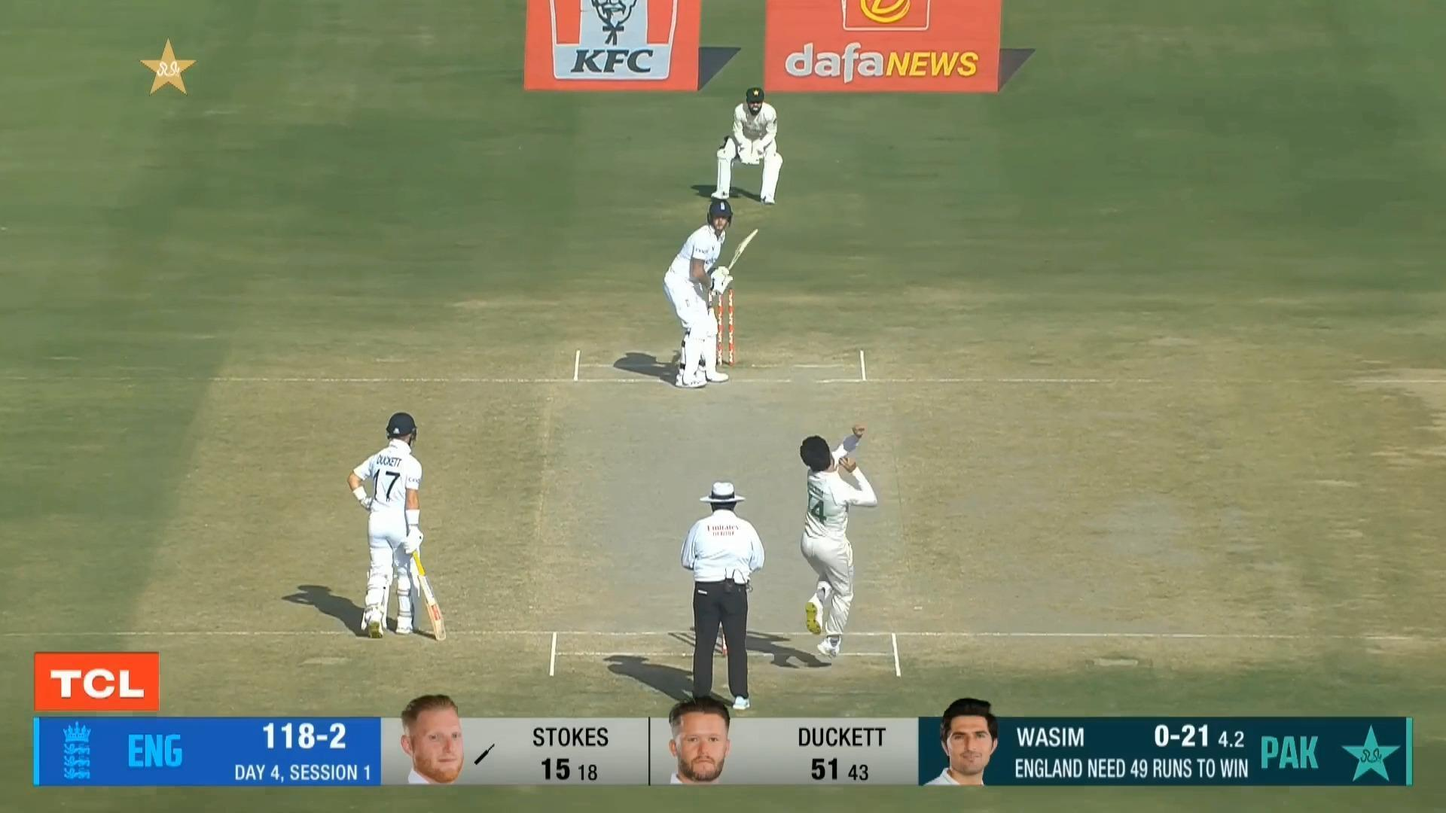BM 1: (663, 199, 760, 391)
BO: (800, 424, 879, 663)
